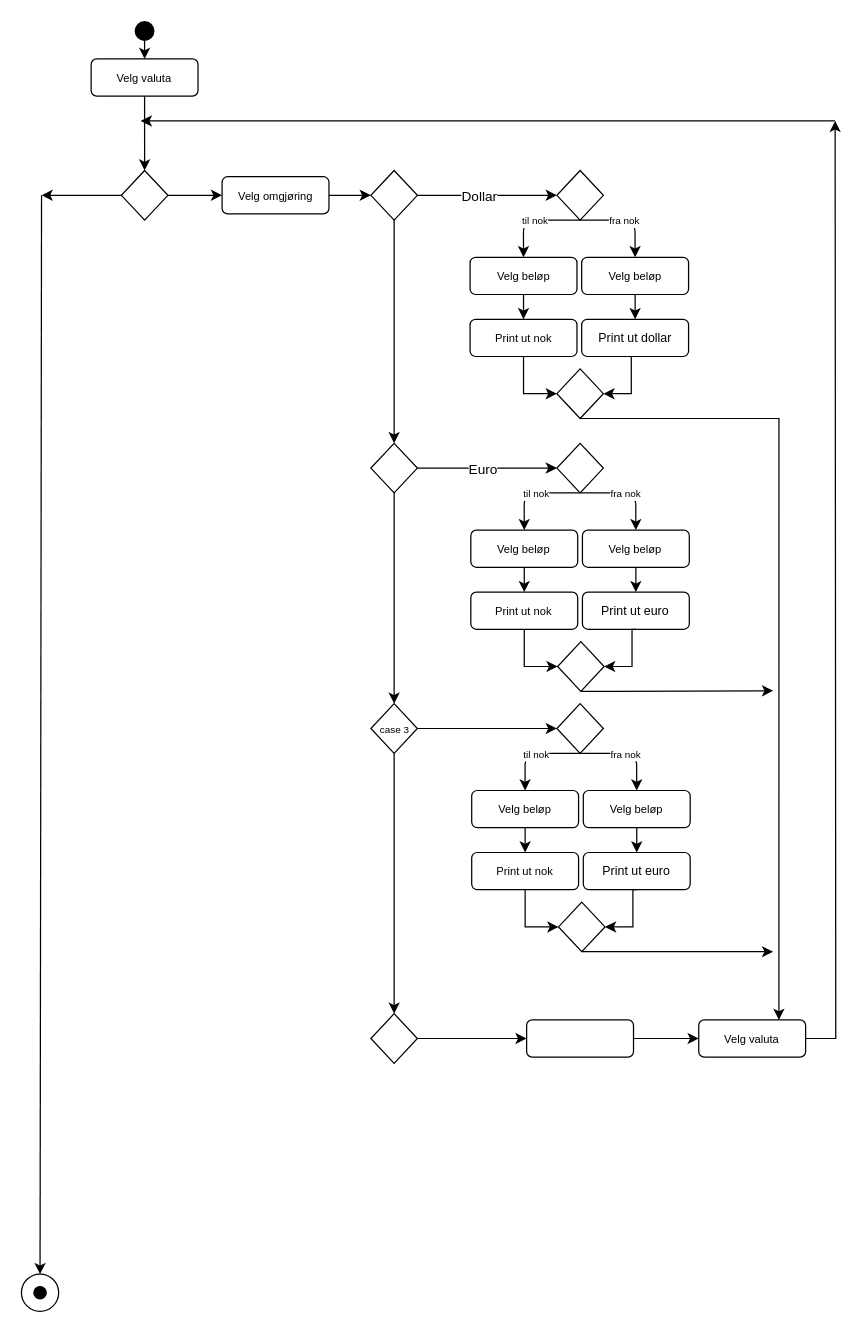
The diagram is 868 pixels wide and 1333 high, and some of its shapes have lost their labels. The shapes that lost their labels are listed below. From the top down, each one's box as (x1, y1, x2, y2) in pixels, then its label:
(370, 169, 417, 220): case 1
(370, 442, 417, 493): case 2
(370, 1012, 417, 1063): default
(525, 1019, 634, 1057): Feil input
